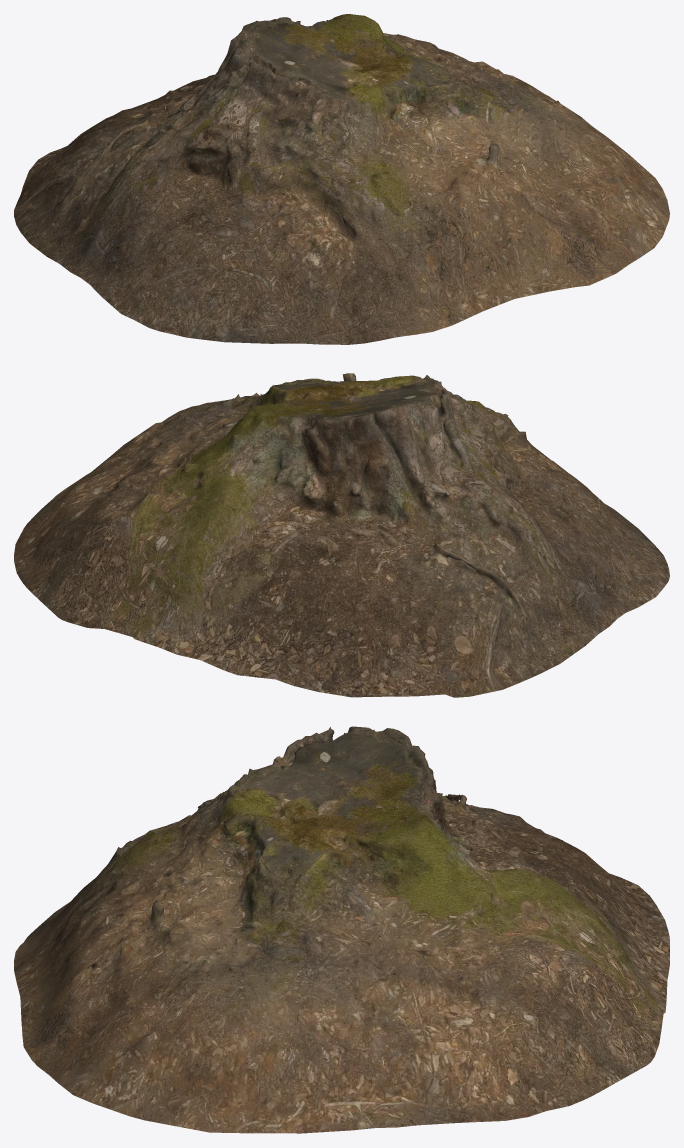
Rendered from tree_stump_02.glb.
3 renders of one model, top to bottom at view 1: azimuth 30°, elevation 25°; view 2: azimuth 150°, elevation 25°; view 3: azimuth 270°, elevation 25°, orthographic. The views are drawn at different scales.
Visible parts, largest first — view 1: tree_stump_02; view 2: tree_stump_02; view 3: tree_stump_02.
Boxes of the visible parts, <box> form: tree_stump_02: <box>14,14,669,344</box>; tree_stump_02: <box>14,373,669,697</box>; tree_stump_02: <box>14,726,669,1133</box>.
Size of the model in its own units: 1.52 by 0.5214 by 1.39.
1 material, 1 textured.
